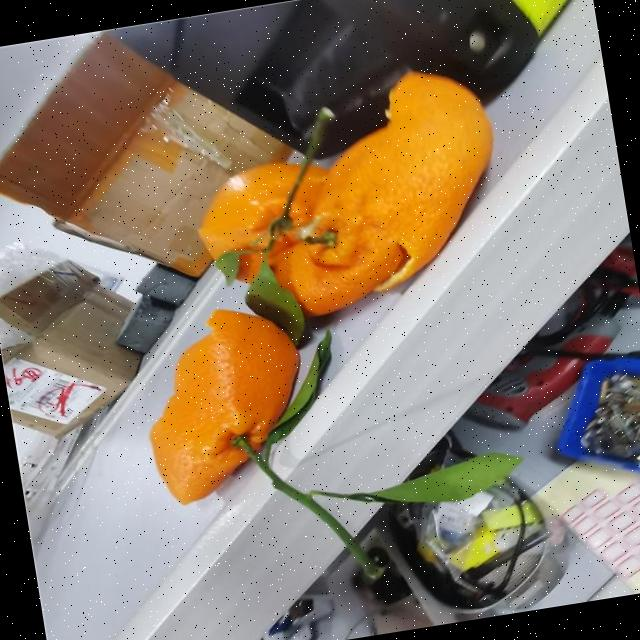orange-peel: (130, 296, 320, 508)
